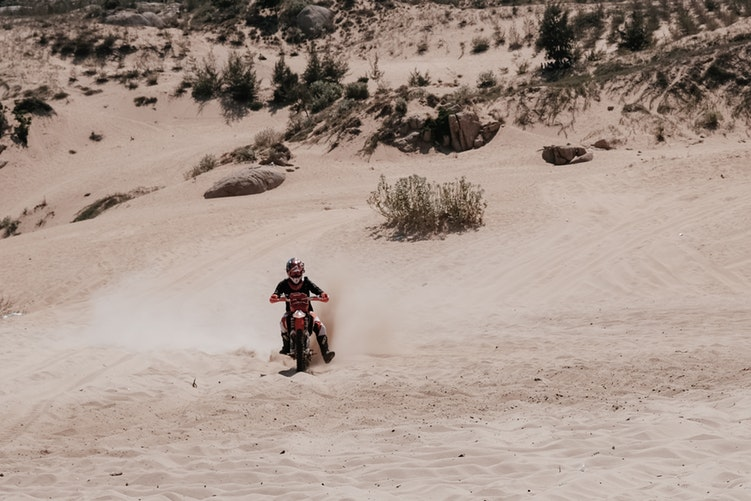helmet: (283, 253, 309, 277)
